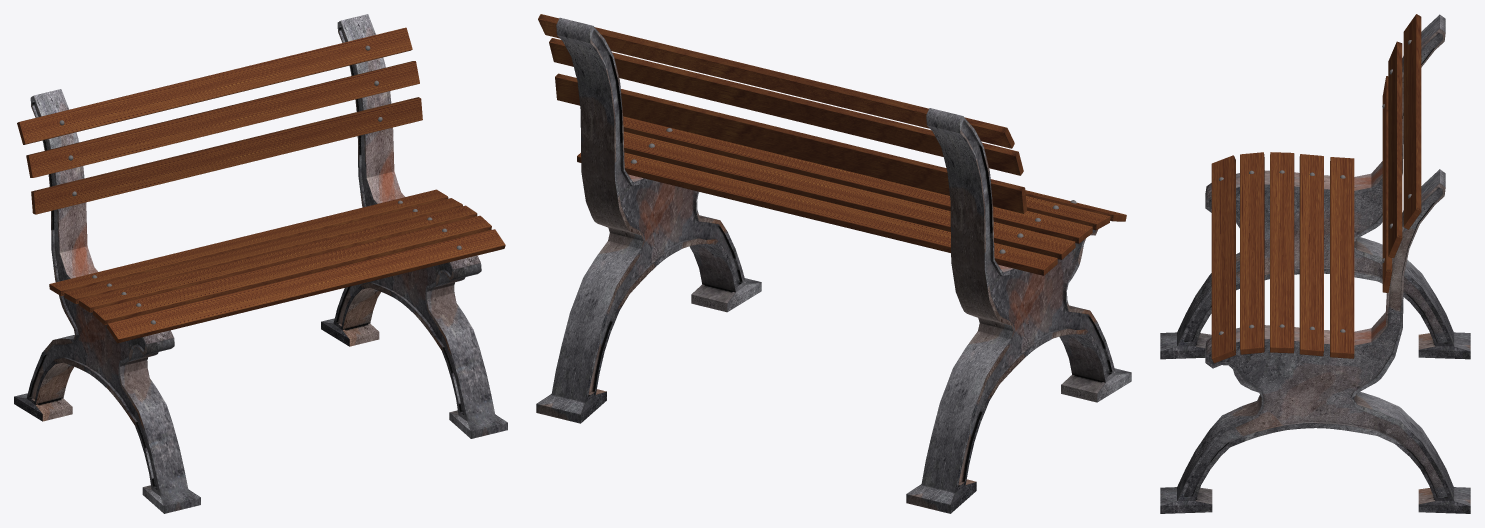
The model's file is Bench.fbx.
3 renders of one model, left to right at view 1: azimuth 30°, elevation 25°; view 2: azimuth 150°, elevation 25°; view 3: azimuth 270°, elevation 25°, orthographic. The views are drawn at different scales.
Visible parts, largest first — view 1: pSphere17; view 2: pSphere17; view 3: pSphere17.
Part boxes in pixels (x1,y1,x2,y2): pSphere17: (14, 14, 507, 513); pSphere17: (536, 14, 1131, 513); pSphere17: (1160, 14, 1470, 513).
Bounding box in the file's own units: 20.08 × 15.75 × 13.47.
3 materials, 2 textured.
